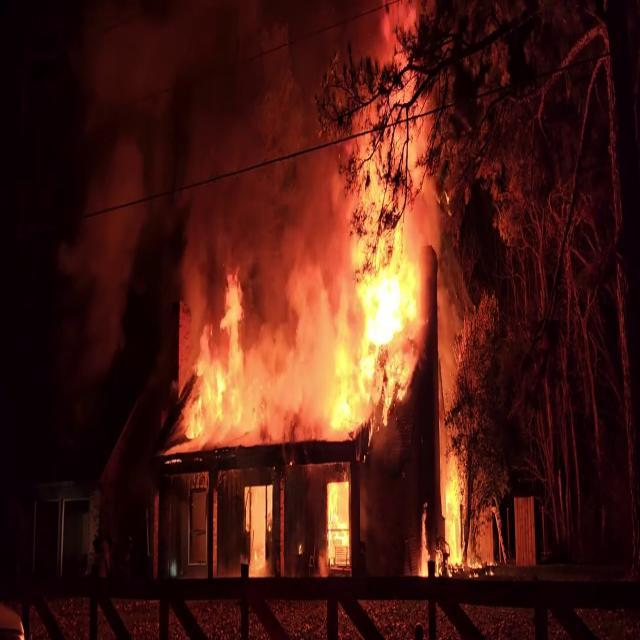Fire: (324, 151, 438, 432), (184, 279, 322, 441), (438, 441, 468, 573), (327, 476, 351, 566)
Smoke: (82, 0, 340, 289)
